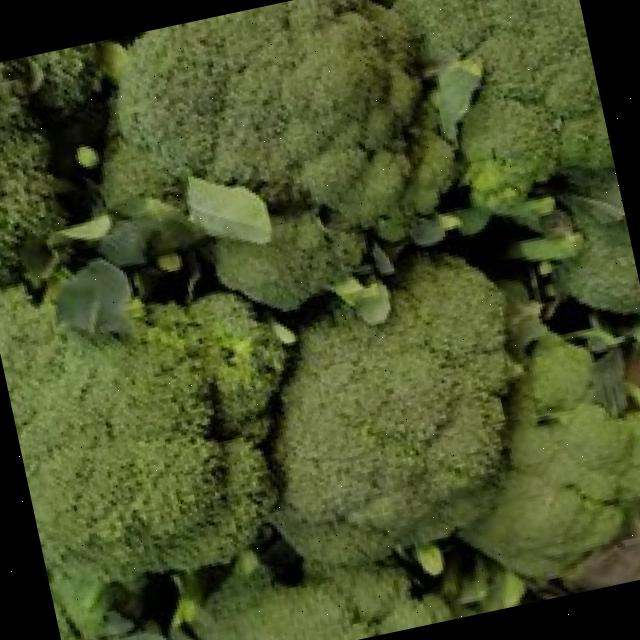Broccoli: (0, 0, 640, 580), (0, 289, 286, 579), (273, 257, 518, 562), (120, 0, 422, 223), (463, 337, 640, 575), (394, 0, 601, 114)
